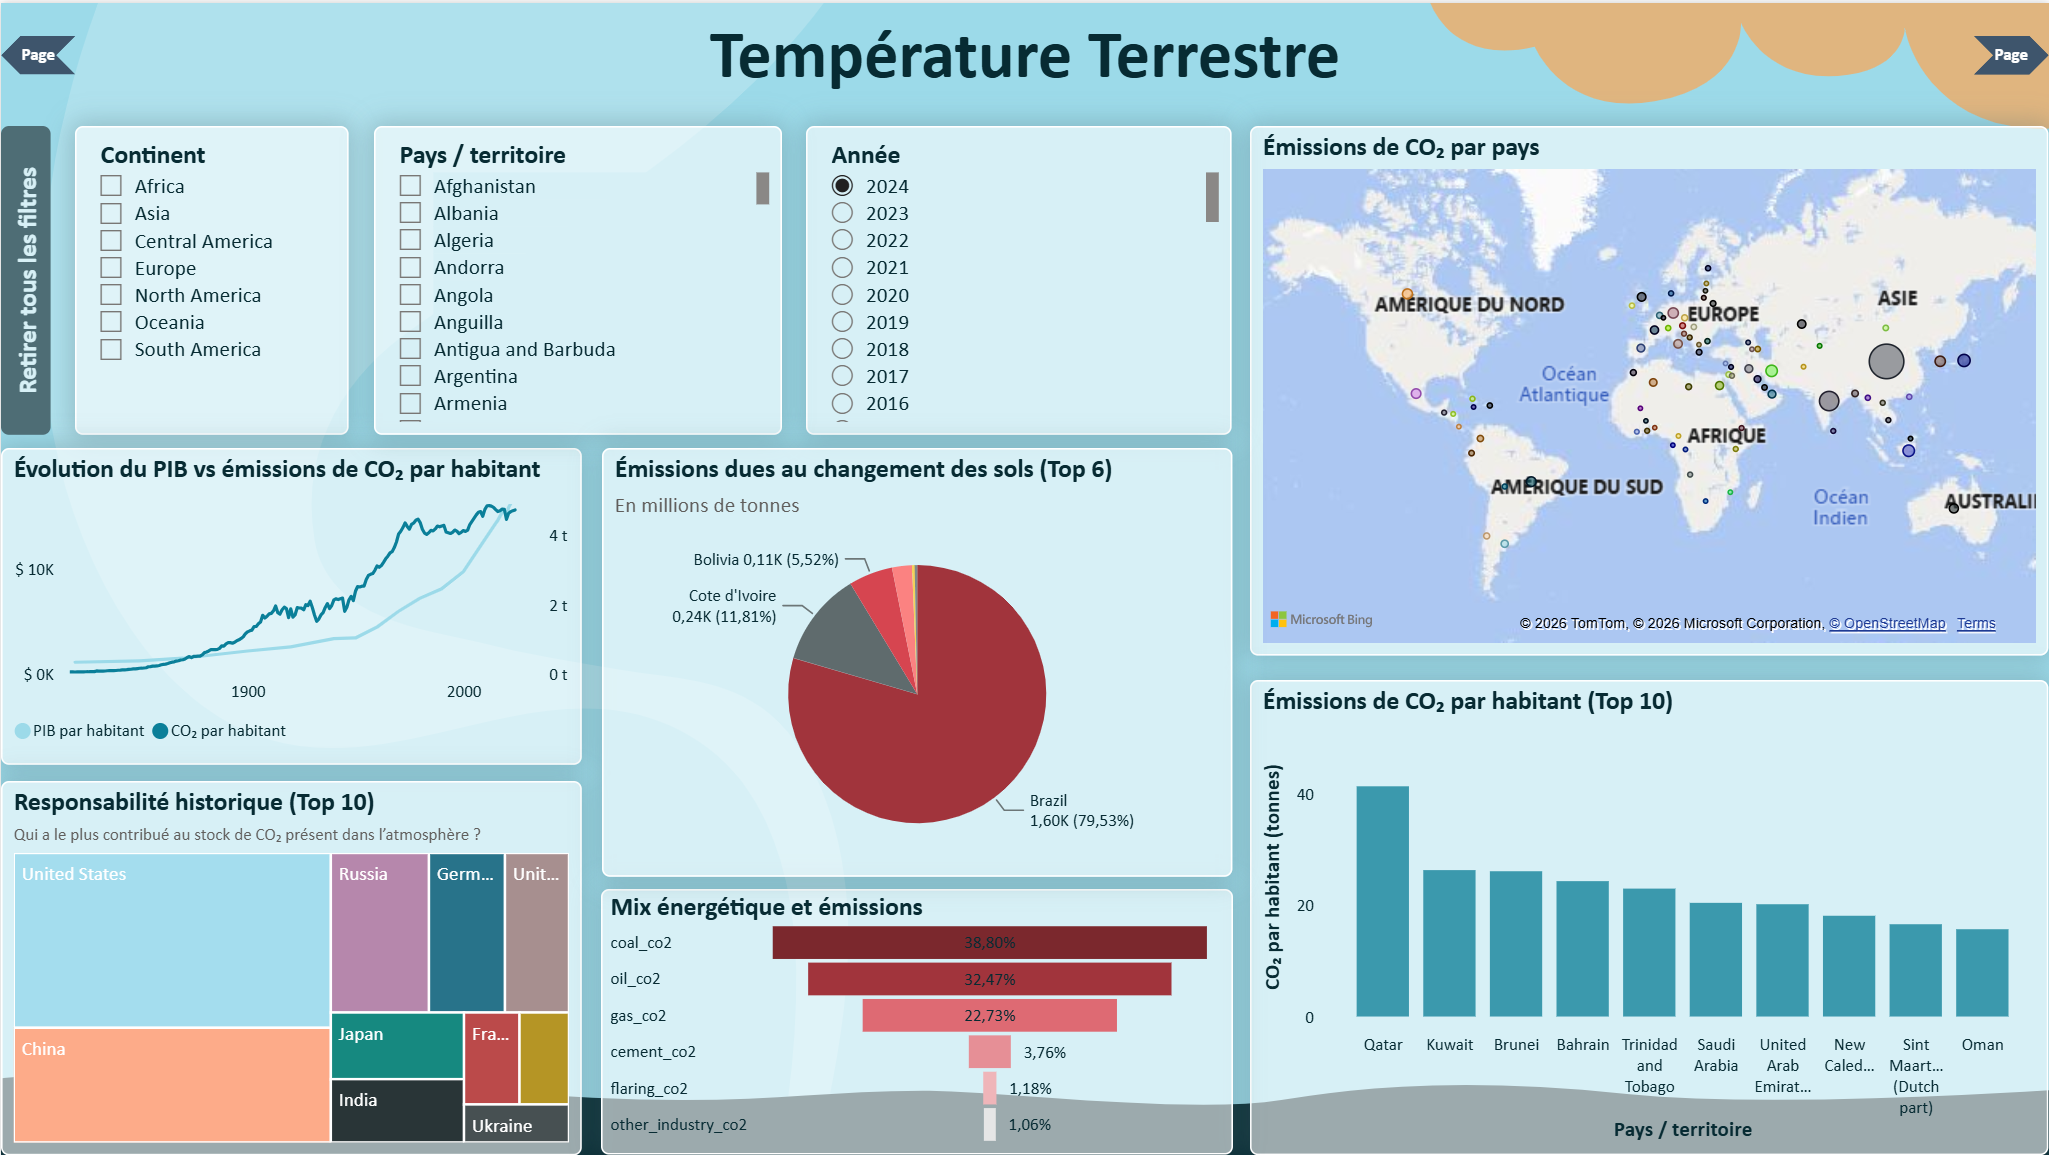

Layout of this report page (visuals, bound fields, positions):
{"tool":"powerbi","page":{"name":"Focus sur les émissions de CO₂","canvas":[1280,720],"ordinal":2},"visuals":[{"type":"map","title":"Émissions de CO₂ par pays","fields":{"Series":["owid-co2-data.iso code owid"],"Size":["Sum(owid-co2-data.co2)"],"X":["code_pays_owid.Longitude"],"Y":["code_pays_owid.Latitude"]},"box":[780.7,76.7,499.3,331.3],"z":0},{"type":"slicer","fields":{"Values":["code_pays_owid.Continent"]},"box":[46.5,76.7,171.2,193.3],"z":1000},{"type":"textbox","box":[0,0,1280,63.8],"z":2000},{"type":"shape","box":[0,20.6,46.6,24],"z":3000},{"type":"shape","box":[1233.4,20.6,46.6,24],"z":4000},{"type":"lineChart","title":"Évolution du PIB vs émissions de CO₂ par habitant","fields":{"Category":["Calendar.Year"],"Y":["Model Measurres.PIB par habitant"],"Y2":["Model Measurres.Max CO2 par habitant"]},"box":[0,278,362.7,198],"z":5000},{"type":"columnChart","title":"Émissions de CO₂ par habitant (Top 10)","fields":{"Category":["owid-co2-data.Nom"],"Y":["Sum(owid-co2-data.co2_per_capita)"]},"box":[780.7,423.3,499.3,296.7],"z":6000},{"type":"slicer","fields":{"Values":["Calendar.Year"]},"box":[503.1,76.7,265.6,193.3],"z":7000},{"type":"treemap","title":"Responsabilité historique (Top 10)","fields":{"Group":["owid-co2-data.Nom"],"Values":["Sum(owid-co2-data.cumulative_co2)"]},"box":[0,486.2,363,233.9],"z":8000},{"type":"funnel","title":"Mix énergétique et émissions","fields":{"Category":["owid-co2-sources.Attribute"],"Y":["Model Measurres.Emissions des Mix en %"]},"box":[374.8,554.1,394.7,166],"z":9000},{"type":"slicer","title":"Pays / Territoires","fields":{"Values":["code_pays_owid.Nom"]},"box":[233.1,76.7,255.3,193.3],"z":10000},{"type":"pieChart","title":"Émissions dues au changement des sols (Top 6)","fields":{"Category":["owid-co2-data.Nom"],"Y":["Sum(owid-co2-data.land_use_change_co2)"]},"box":[375.3,278,394,268],"z":11000},{"type":"actionButton","box":[0,76.7,31,193.3],"z":12000}]}

Visuals, with their boxes in screenshot pixels (x1, y1, x2, y2), scaled from the page's 1280x720 canvas onto the 2049x1155 screenshot:
"Émissions de CO₂ par pays" map: 1250 123 2048 654
slicer - code_pays_owid.Continent: 74 123 348 433
textbox: 0 0 2048 102
shape: 0 33 75 72
shape: 1974 33 2048 72
"Évolution du PIB vs émissions de CO₂ par habitant" lineChart: 0 446 581 764
"Émissions de CO₂ par habitant (Top 10)" columnChart: 1250 679 2048 1154
slicer - Calendar.Year: 805 123 1231 433
"Responsabilité historique (Top 10)" treemap: 0 780 581 1154
"Mix énergétique et émissions" funnel: 600 889 1232 1154
"Pays / Territoires" slicer: 373 123 782 433
"Émissions dues au changement des sols (Top 6)" pieChart: 601 446 1231 876
actionButton: 0 123 50 433
